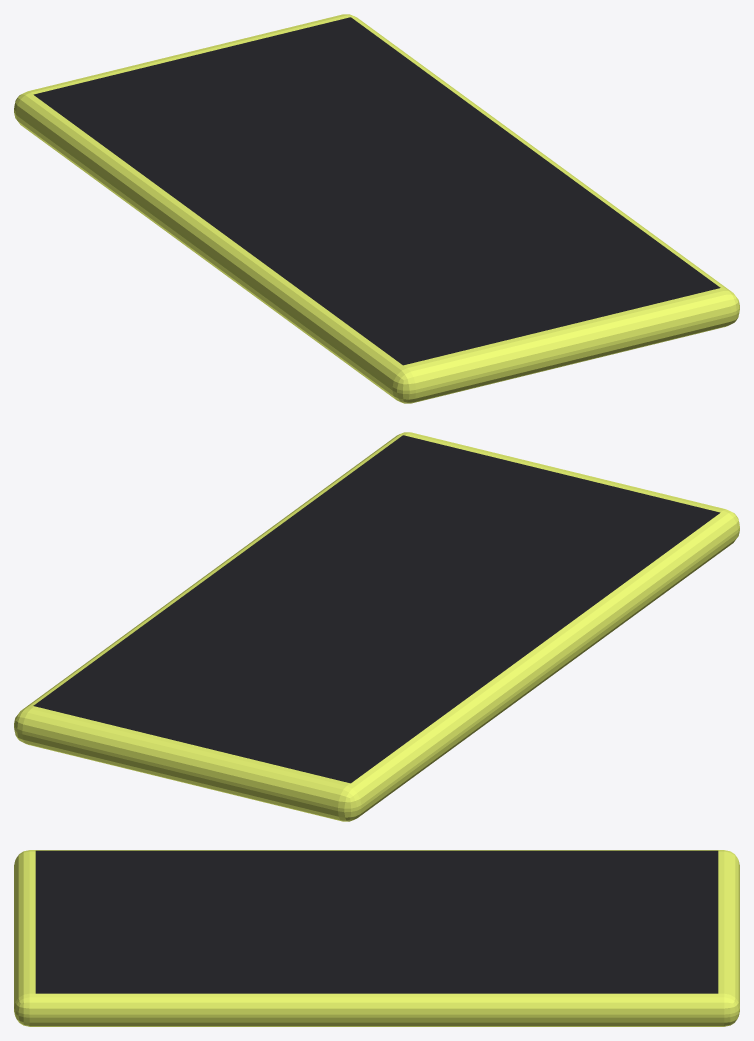
Rendered from google-pixel-a-model-387-flagship-2023.glb.
3 views of the same model, one above another, from view 1: azimuth 30°, elevation 25°; view 2: azimuth 150°, elevation 25°; view 3: azimuth 270°, elevation 25° (orthographic). The views are drawn at different scales.
Parts seen in each view (by area): view 1: Phone_Screen, Phone_Body; view 2: Phone_Screen, Phone_Body; view 3: Phone_Screen, Phone_Body.
Part boxes in pixels (x1,y1,x2,y2): Phone_Screen: (33,17,720,365); Phone_Body: (14,14,739,403); Phone_Screen: (33,435,720,783); Phone_Body: (14,432,739,821); Phone_Screen: (35,850,718,993); Phone_Body: (14,850,739,1026).
Bounding box in the file's own units: 0.0776 × 0.0075 × 0.1532.
